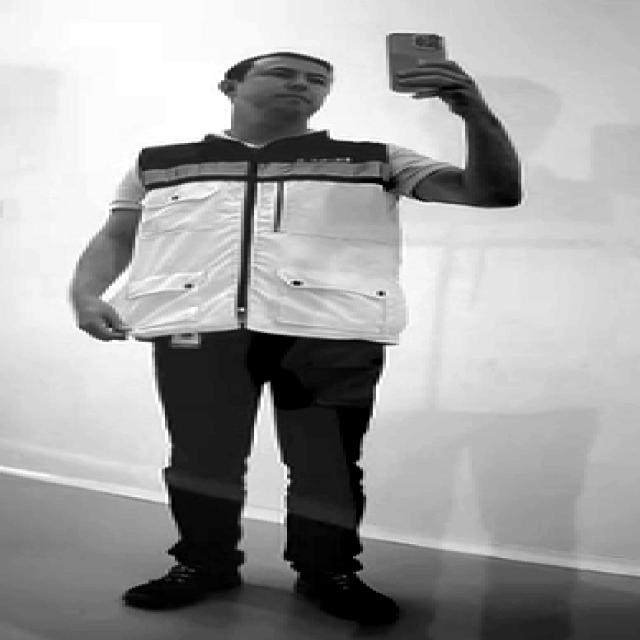Boots: (286, 564, 410, 632), (108, 560, 248, 615)
Vest: (137, 146, 401, 344)
